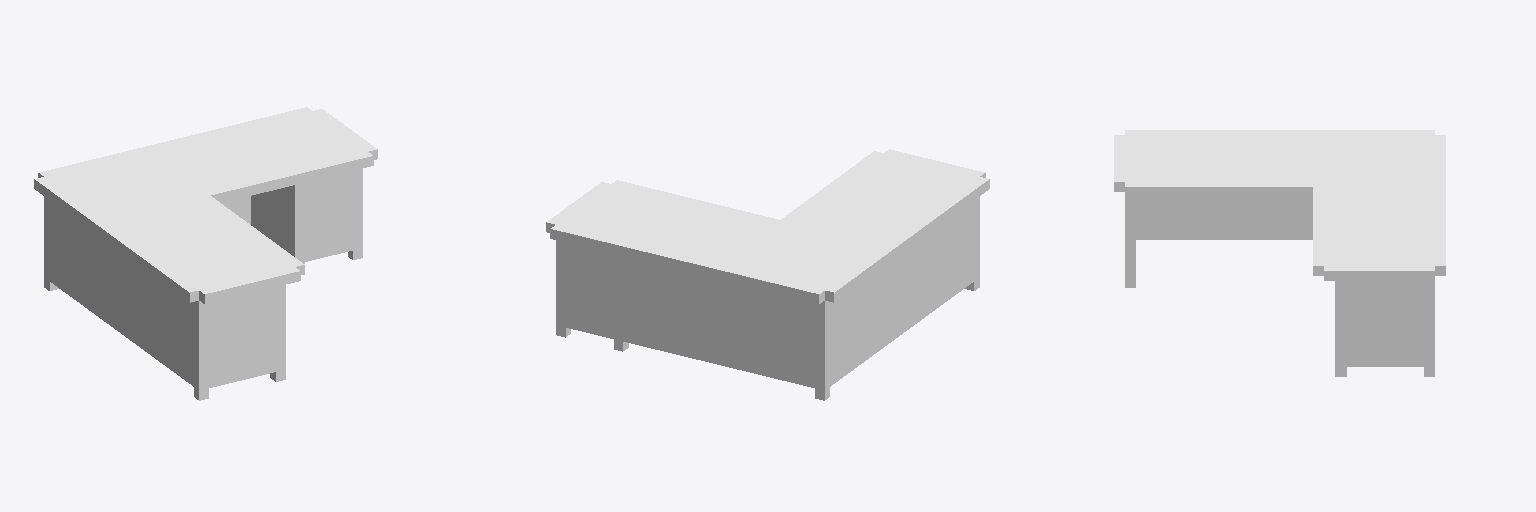
Rendered from Office_Table_Set-16.obj.
3 views of the same model, side by side, from view 1: azimuth 30°, elevation 25°; view 2: azimuth 150°, elevation 25°; view 3: azimuth 270°, elevation 25° (orthographic).
Parts seen in each view (by area): view 1: object 1; view 2: object 1; view 3: object 1.
Part boxes in pixels (left/top/right/bottom): object 1: left=34, top=107, right=377, bottom=400; object 1: left=546, top=149, right=989, bottom=400; object 1: left=1114, top=130, right=1445, bottom=376.
Size of the model in its own units: 3 by 1.1 by 3.